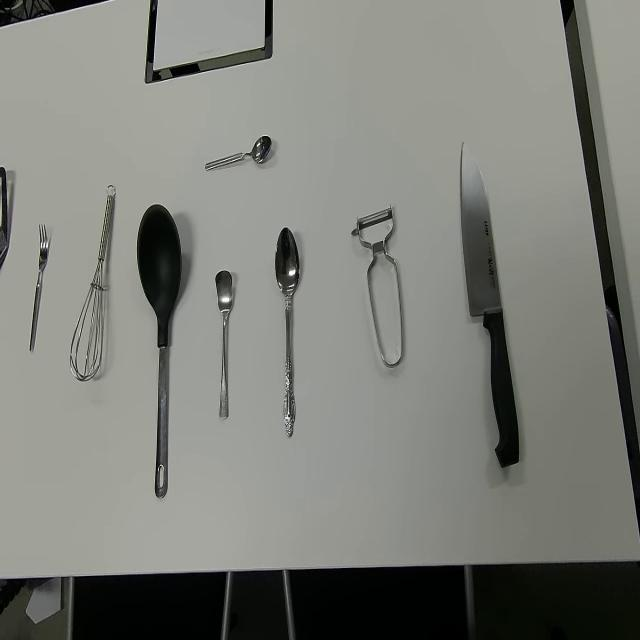Desert-Spoon: (274, 225, 300, 440)
Dinner-Fork: (28, 221, 50, 356)
Kitchen-Knife: (460, 139, 520, 470)
Peeler: (352, 205, 404, 368)
Serving-Spoon: (136, 202, 183, 500), (0, 162, 8, 279)
Tea-Spoon: (215, 268, 234, 421), (204, 133, 272, 173)
Whisk: (69, 183, 117, 381)
